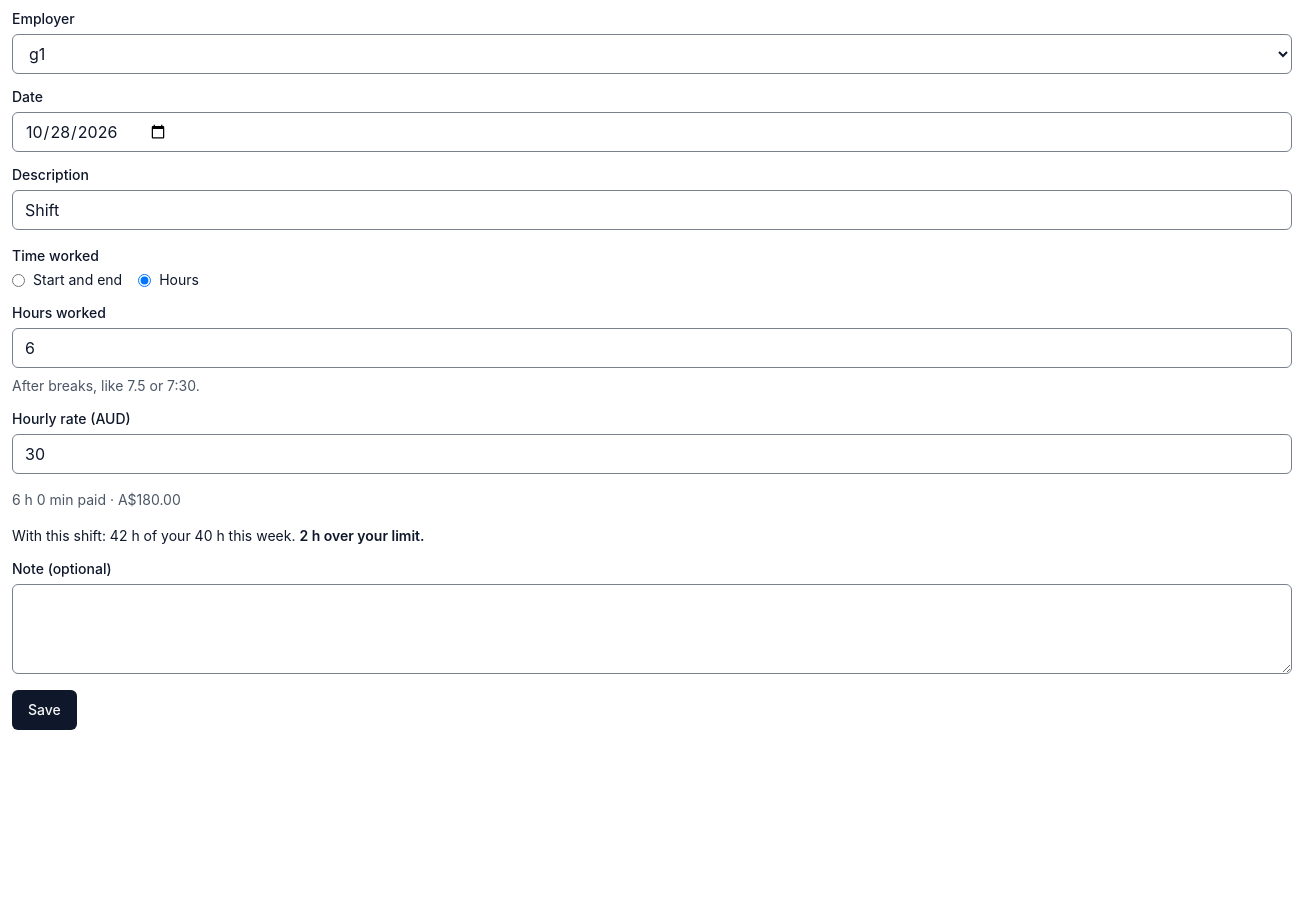
Scenario: ShiftForm’s line (#53) › shows nothing for a shift that pays someone else, or with no hours yet
expect the text "With this shift:" is shown: met, box x1=12 y1=527 x2=296 y2=544
Select "g2" in the dropdown labelled "Employer" at (652, 54), box x1=12 y1=34 x2=1292 y2=74
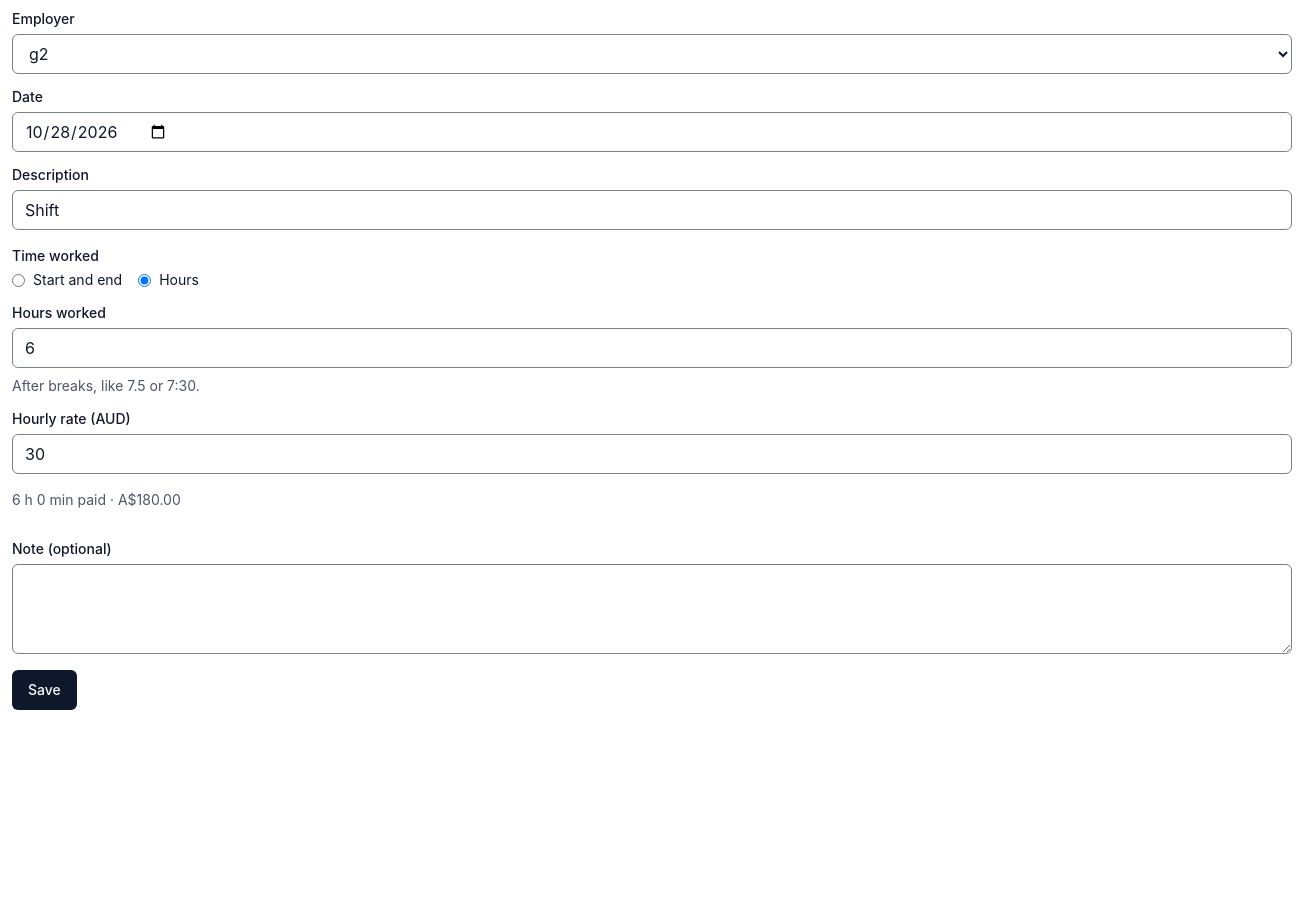
expect the text "With this shift:" is gone: met
